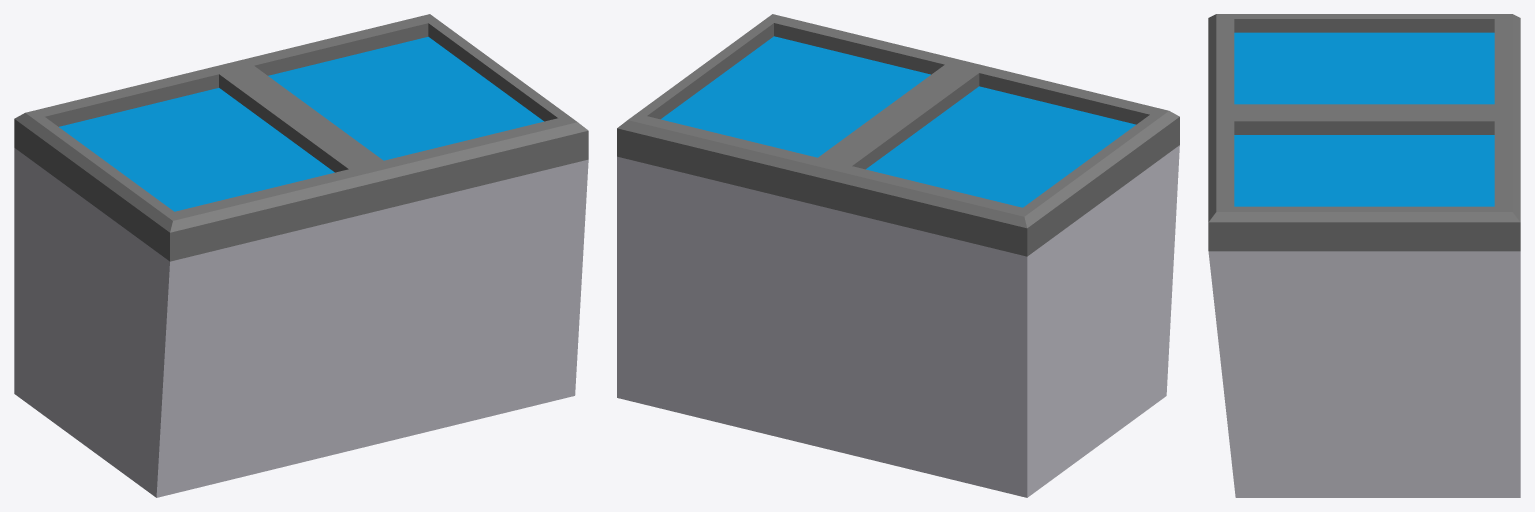
Rendered from fridge.fbx.
3 views of the same model, side by side, from view 1: azimuth 30°, elevation 25°; view 2: azimuth 150°, elevation 25°; view 3: azimuth 270°, elevation 25° (orthographic). The views are drawn at different scales.
Parts seen in each view (by area): view 1: fridge; view 2: fridge; view 3: fridge.
Part boxes in pixels (x1,y1,x2,y2): fridge: [14, 14, 588, 497]; fridge: [617, 14, 1179, 497]; fridge: [1208, 14, 1520, 497].
Bounding box in the file's own units: 271 × 174 × 174.
